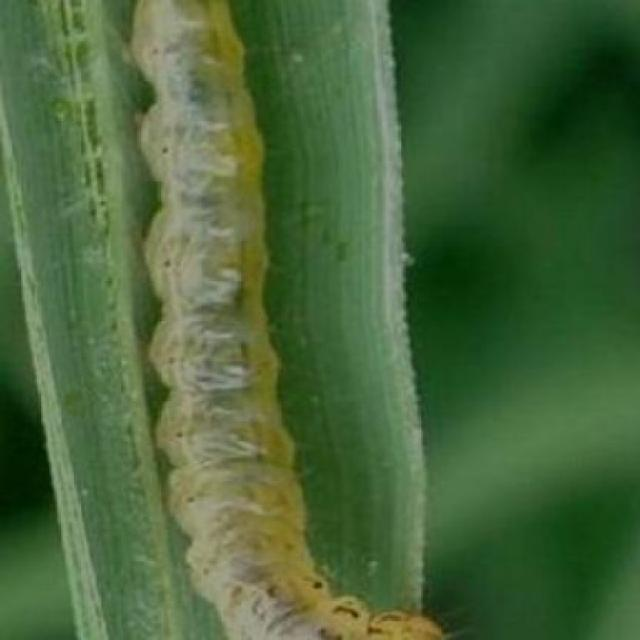leaf-folder: (81, 1, 472, 640)
